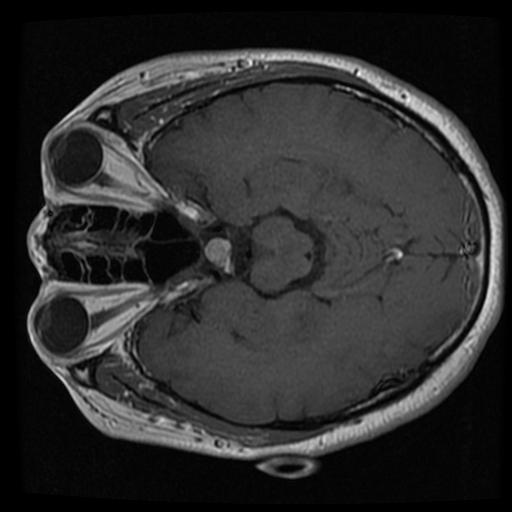pituitary tumour: (205, 239, 228, 266)
